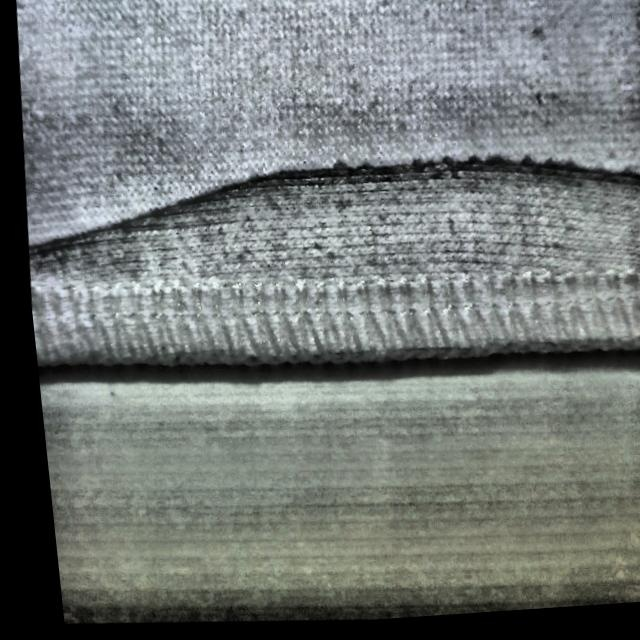seam: (20, 52, 640, 421)
